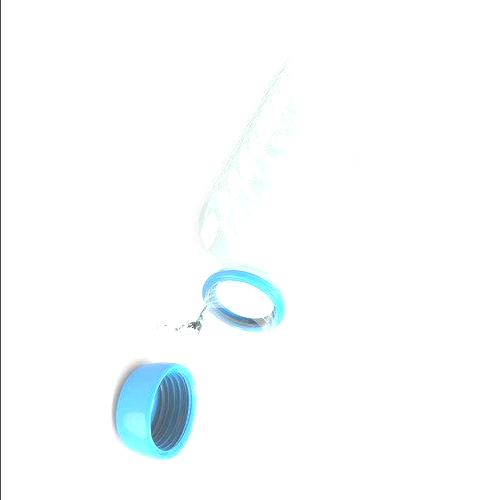bottle: (110, 26, 410, 465)
